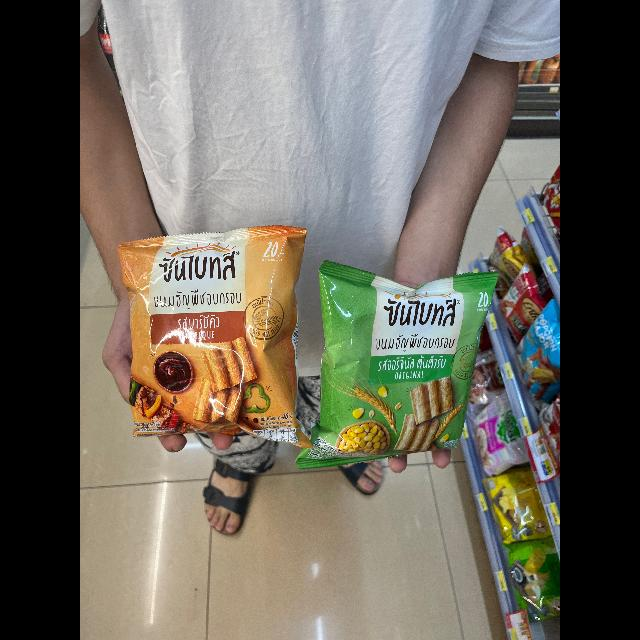snack_bag: (296, 248, 508, 482), (108, 224, 316, 458)
